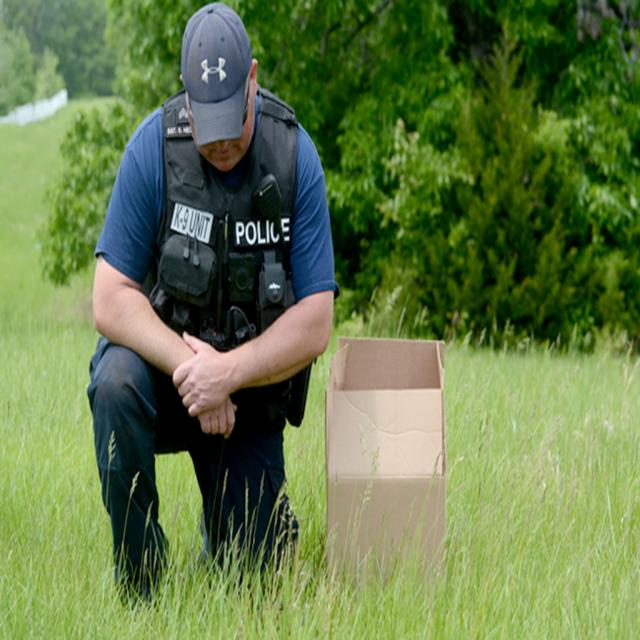Box: (321, 321, 456, 548)
